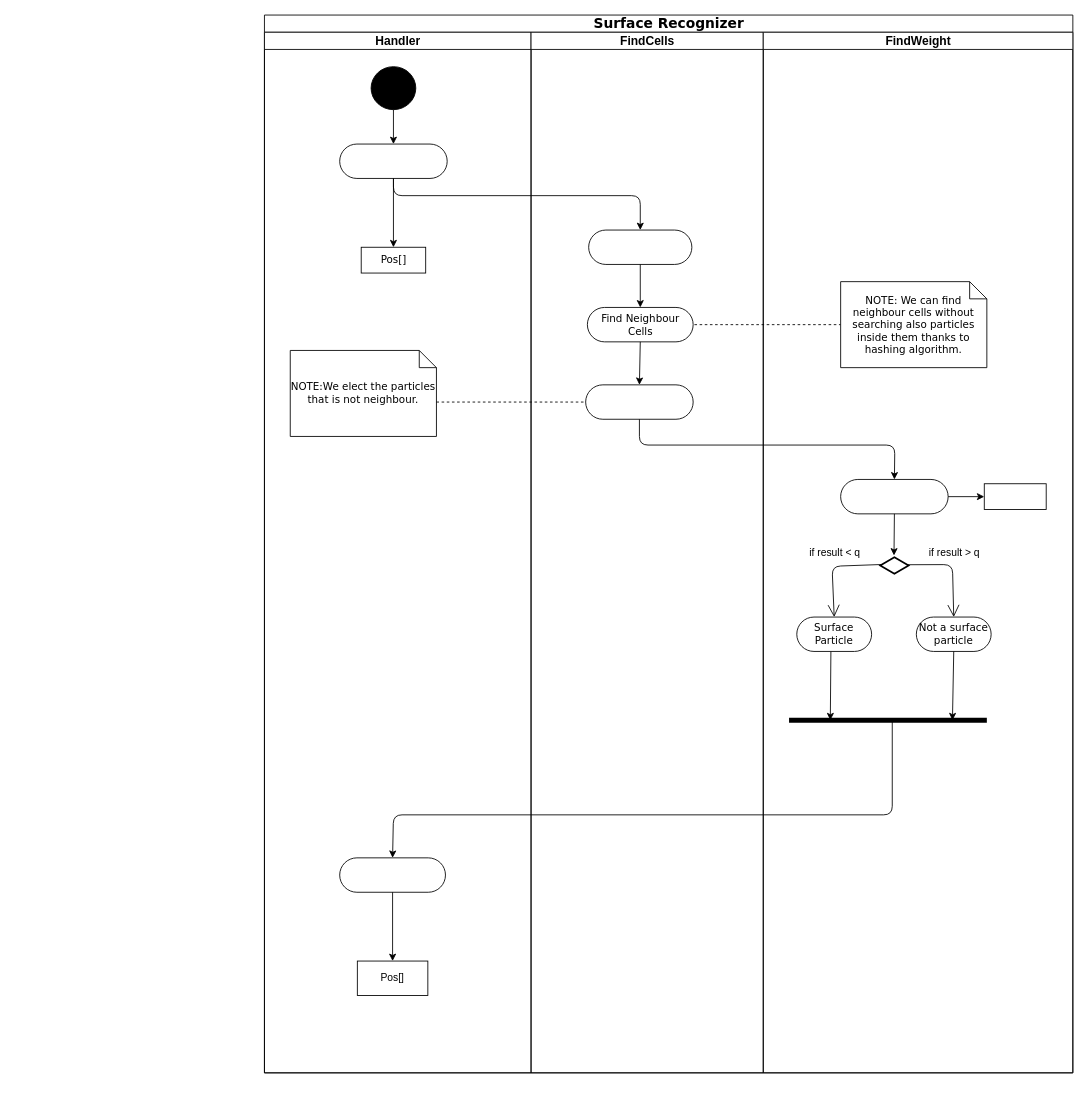
Some shapes in this 1088 by 1117 pixel diagram are drawn without their labels. Each missing label, with the centre of its shape:
"Calculate Weight" belongs at pixel 894 496.
"Find Boundary" belongs at pixel 640 246.
"Find Neighbour Particles" belongs at pixel 639 401.
"Float" belongs at pixel 1014 496.
"Receive Surface particle data" belongs at pixel 392 874.
"SendPosition" belongs at pixel 393 160.
